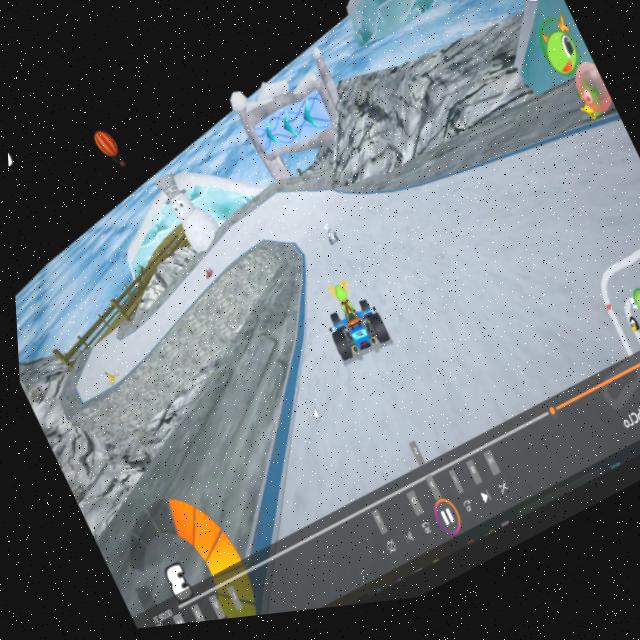enemy_kart: (315, 227, 342, 259), (194, 266, 216, 289)
obstacle: (94, 361, 120, 391)
player_kart: (309, 278, 394, 384)
track: (303, 209, 433, 291), (216, 194, 315, 266), (111, 287, 198, 346), (75, 329, 117, 368)
